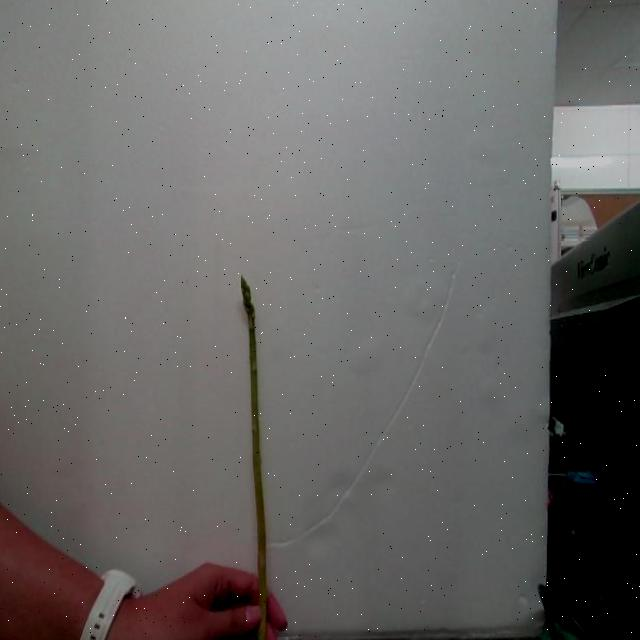aspargus: (240, 278, 286, 640)
